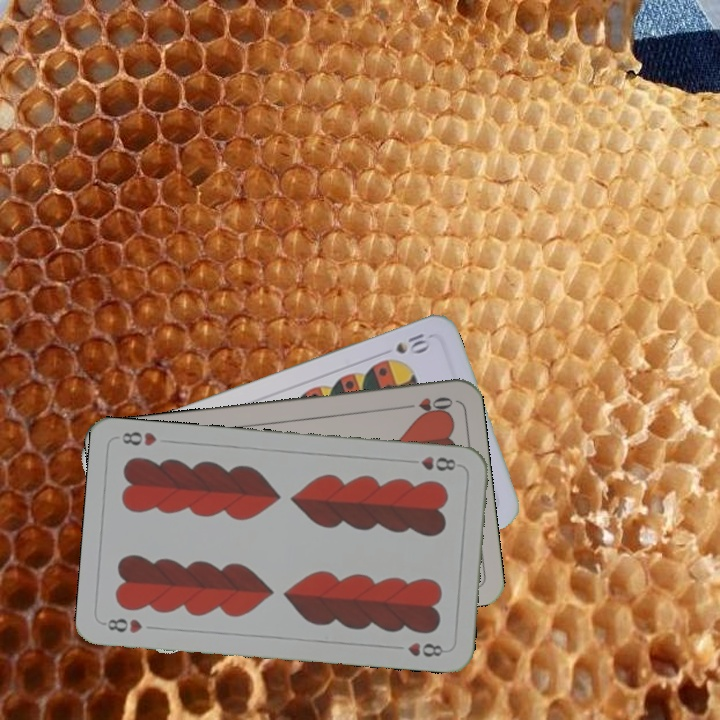H8: (404, 452, 459, 474), (100, 614, 145, 636)
HO: (397, 392, 456, 417)
S10: (391, 329, 430, 357)
